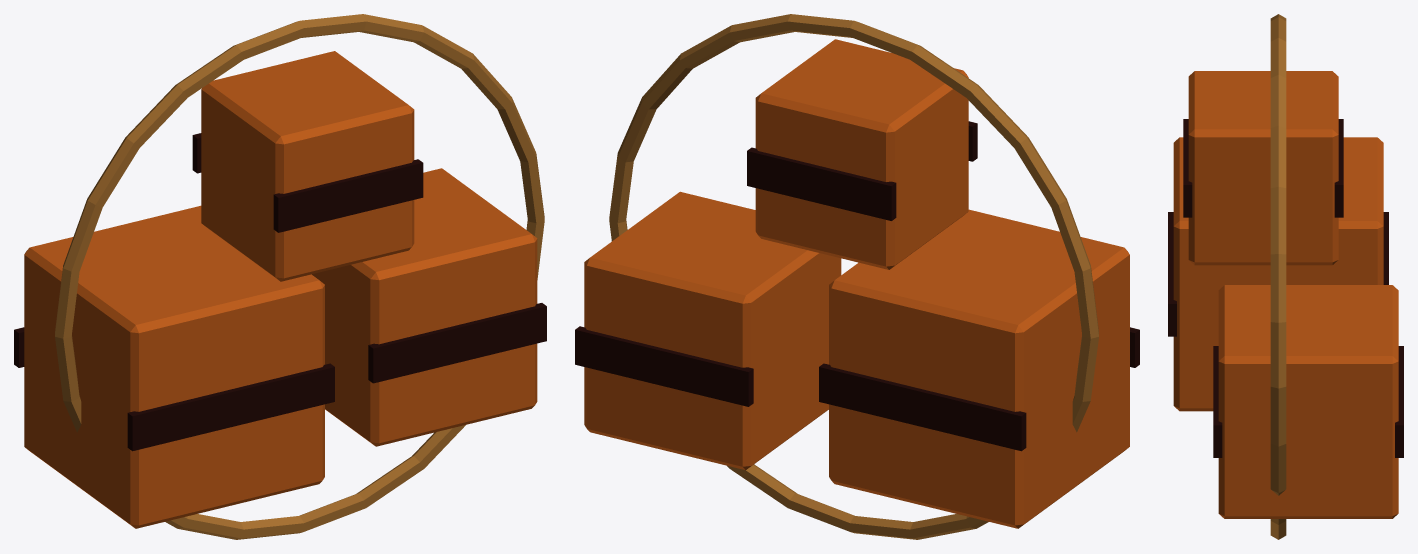
File: upgrade_lashed_cargo_crates.three-web-toon.glb
The picture shows the model from 3 angles, left to right: view 1: azimuth 30°, elevation 25°; view 2: azimuth 150°, elevation 25°; view 3: azimuth 270°, elevation 25°; orthographic projection. The views are drawn at different scales.
Visible parts, largest first — view 1: upgrade_lashed_cargo_crates_mesh; view 2: upgrade_lashed_cargo_crates_mesh; view 3: upgrade_lashed_cargo_crates_mesh.
Boxes of the visible parts, box(x1,y1,x2,y2) form: upgrade_lashed_cargo_crates_mesh: box(14, 14, 546, 539); upgrade_lashed_cargo_crates_mesh: box(575, 14, 1139, 539); upgrade_lashed_cargo_crates_mesh: box(1168, 14, 1403, 539).
Bounding box in the file's own units: 1.76 × 1.76 × 0.7865.
